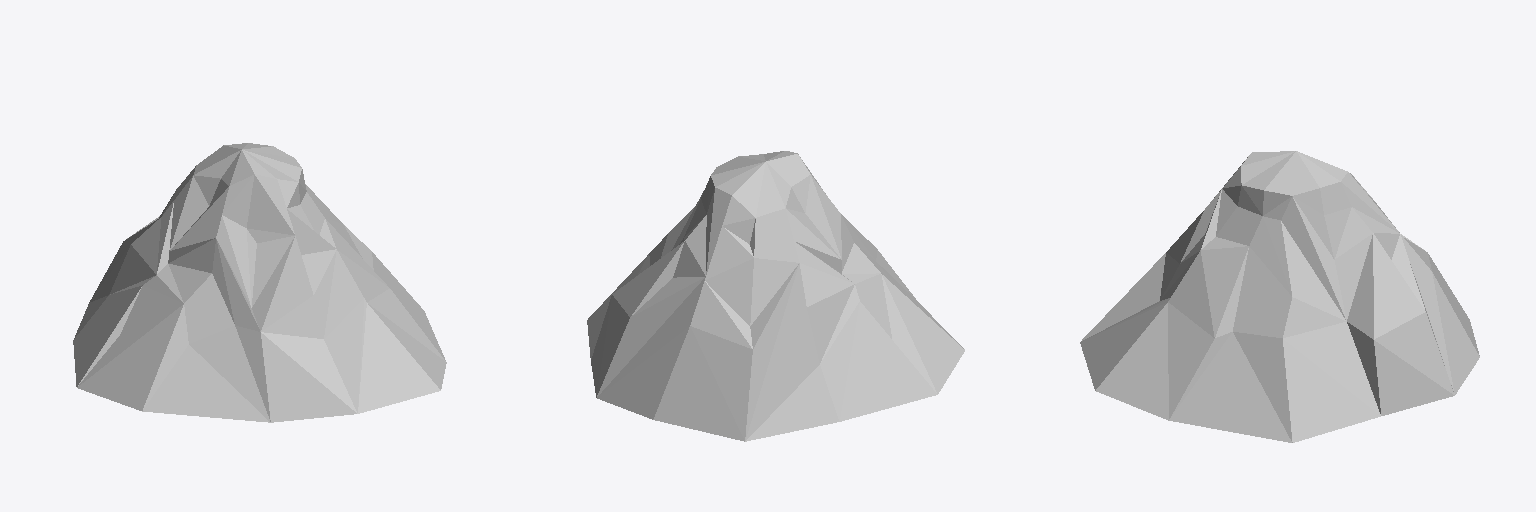
File: rock.obj
3 renders of one model, left to right at view 1: azimuth 30°, elevation 25°; view 2: azimuth 150°, elevation 25°; view 3: azimuth 270°, elevation 25°, orthographic.
Parts seen in each view (by area): view 1: group[number redacted]; view 2: group[number redacted]; view 3: group[number redacted].
Part boxes in pixels (left/top/right/bottom): group[number redacted]: left=73, top=143, right=446, bottom=422; group[number redacted]: left=587, top=151, right=964, bottom=441; group[number redacted]: left=1080, top=151, right=1479, bottom=442.
Size of the model in its own units: 0.8163 by 0.4558 by 0.81.